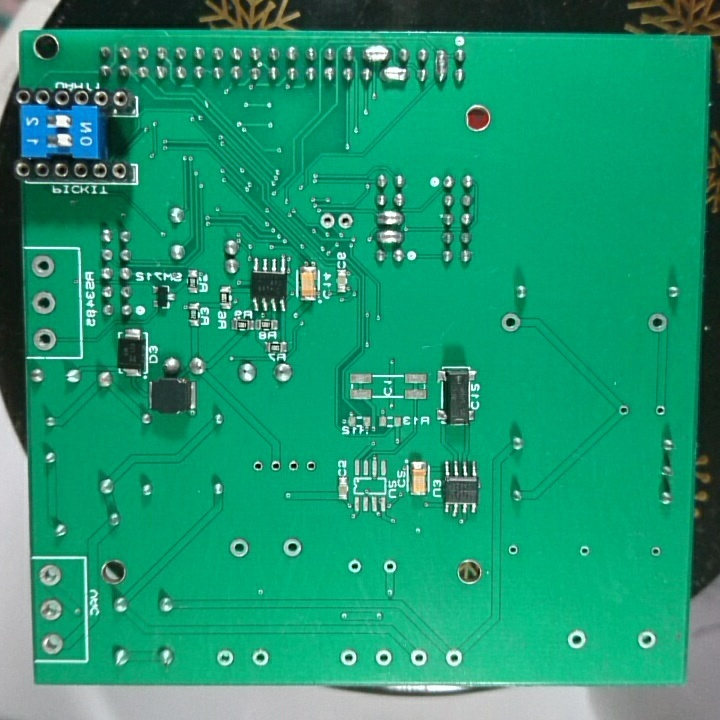F: (29, 288, 57, 317), (37, 561, 65, 590), (29, 252, 58, 279), (38, 595, 65, 623), (38, 631, 66, 657), (31, 326, 57, 352), (499, 309, 524, 335), (645, 310, 669, 337), (227, 537, 250, 562), (565, 627, 588, 652), (281, 535, 303, 561), (442, 647, 465, 671), (635, 627, 657, 652), (408, 646, 430, 670), (337, 646, 359, 669), (372, 647, 395, 669), (336, 211, 356, 233), (250, 647, 270, 669), (317, 211, 337, 231), (379, 555, 397, 577), (345, 555, 362, 578), (301, 457, 319, 478), (214, 650, 233, 669), (266, 458, 285, 477), (575, 541, 594, 560), (285, 458, 302, 478), (505, 540, 521, 560), (250, 458, 267, 476), (652, 402, 668, 420), (616, 402, 631, 420), (649, 542, 662, 559)
P: (372, 226, 408, 247), (361, 43, 394, 63), (373, 209, 409, 227), (433, 48, 449, 85), (382, 64, 409, 83)
